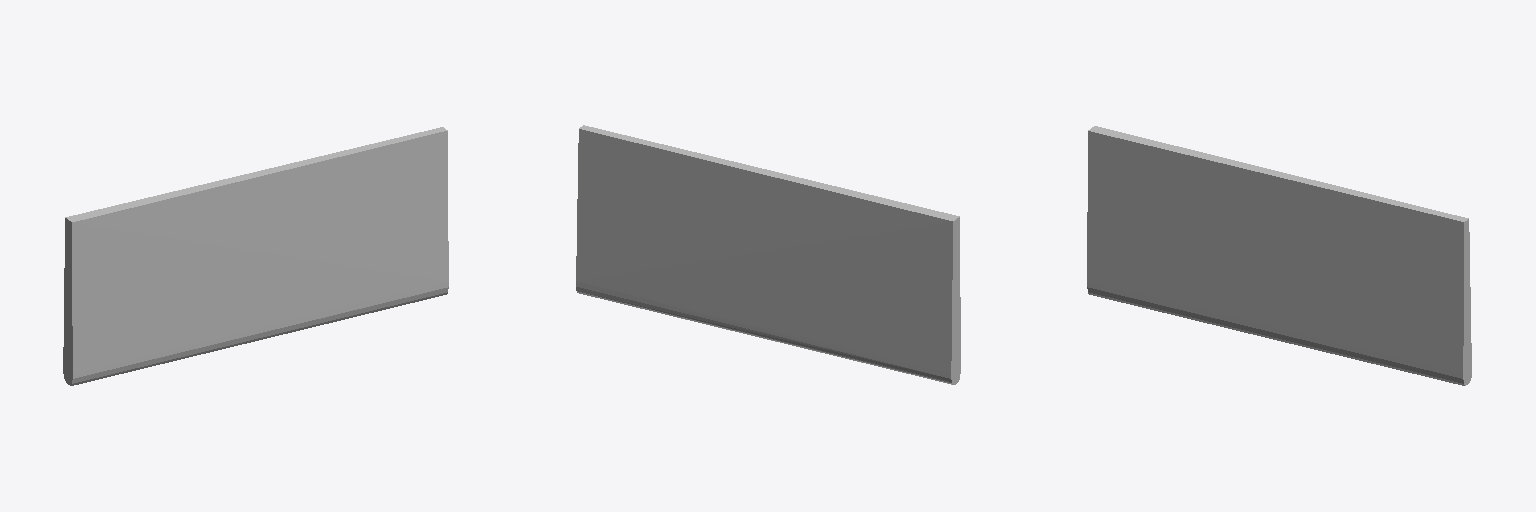
Rendered from table_collision_4.obj.
The picture shows the model from 3 angles: view 1: azimuth 30°, elevation 25°; view 2: azimuth 150°, elevation 25°; view 3: azimuth 330°, elevation 25°; orthographic projection.
Size of the model in its own units: 1.16 by 0.4838 by 0.0505.